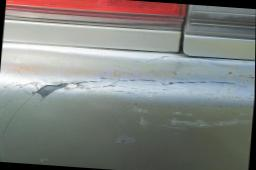Bumper: (0, 19, 256, 170)
